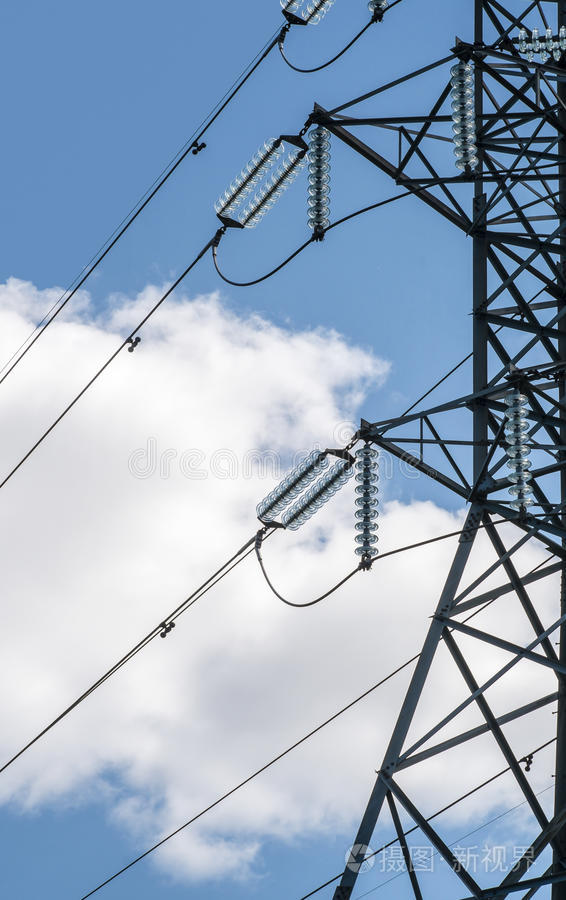insulator: (255, 447, 356, 528), (217, 139, 304, 226), (502, 388, 538, 514), (448, 60, 478, 168), (353, 448, 382, 559), (303, 129, 335, 228), (514, 24, 566, 64)
